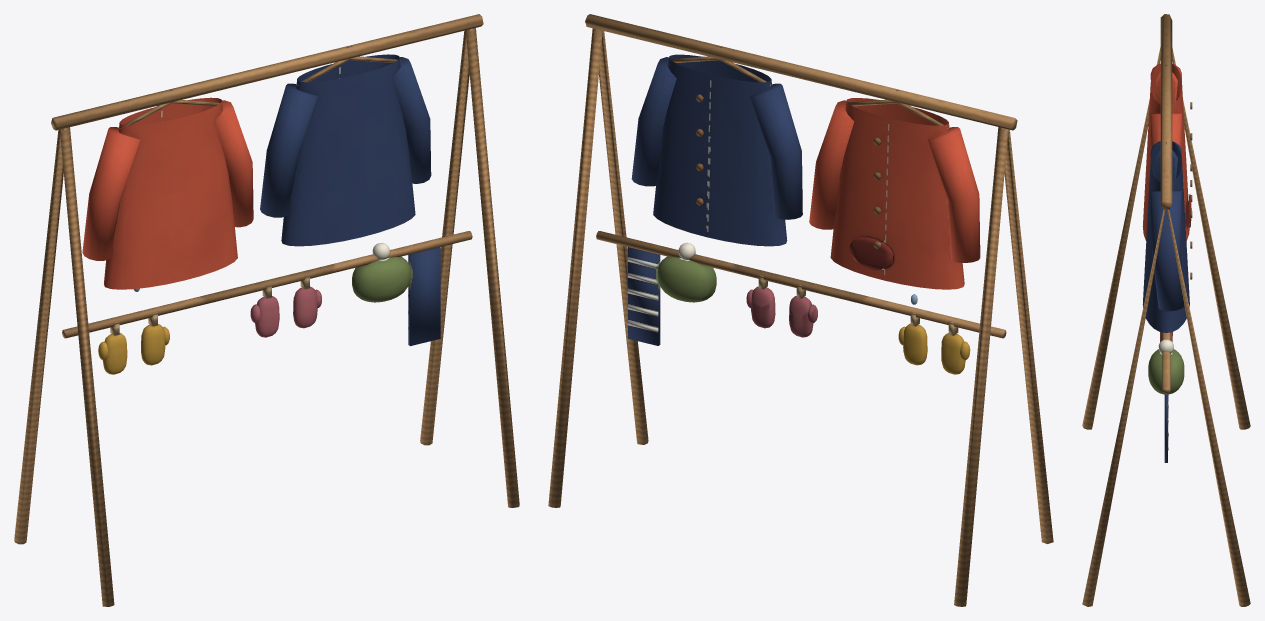
File: drying_rack.glb
The picture shows the model from 3 angles, left to right: view 1: azimuth 30°, elevation 25°; view 2: azimuth 150°, elevation 25°; view 3: azimuth 270°, elevation 25°; orthographic projection. The views are drawn at different scales.
Parts seen in each view (by area): view 1: prop_drying_rack_felt, prop_drying_rack_wood; view 2: prop_drying_rack_felt, prop_drying_rack_wood; view 3: prop_drying_rack_wood, prop_drying_rack_felt.
Boxes of the visible parts, <box> form: prop_drying_rack_felt: <box>82,54,440,374</box>; prop_drying_rack_wood: <box>14,14,519,606</box>; prop_drying_rack_felt: <box>627,54,980,374</box>; prop_drying_rack_wood: <box>548,14,1053,606</box>; prop_drying_rack_wood: <box>1082,14,1250,606</box>; prop_drying_rack_felt: <box>1142,63,1191,462</box>.
Size of the model in its own units: 3.36 by 3.45 by 1.28.
Materials: 2 (2 with a texture image).
